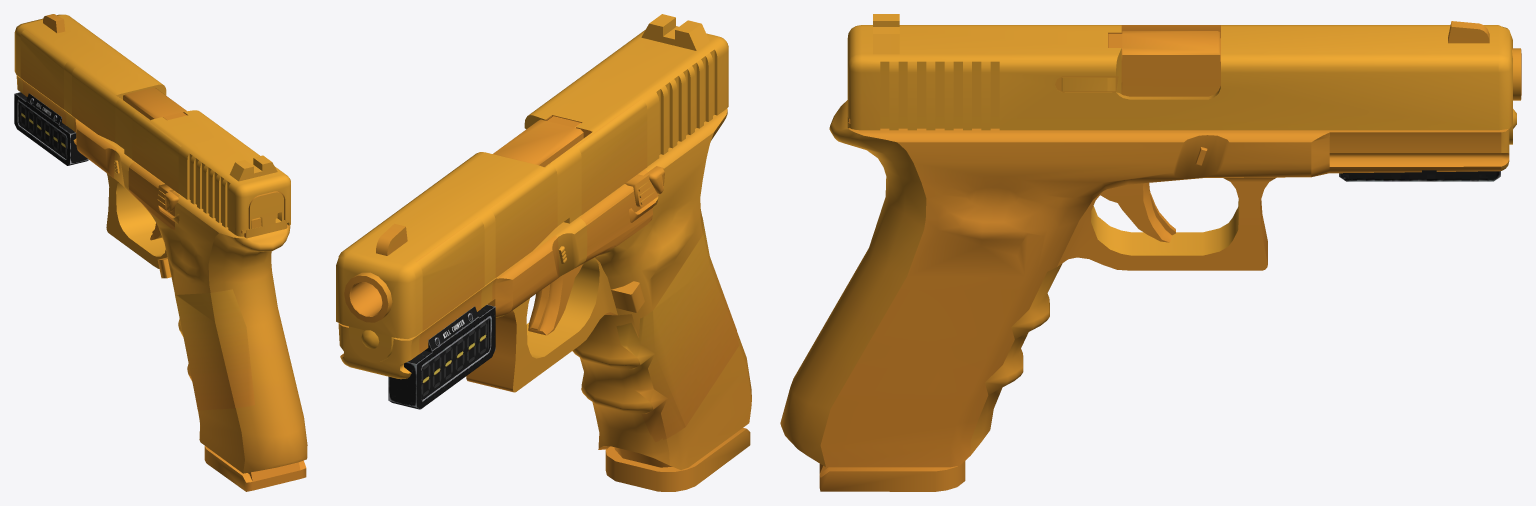
The picture shows the model from 3 angles, left to right: view 1: azimuth 30°, elevation 25°; view 2: azimuth 150°, elevation 25°; view 3: azimuth 270°, elevation 25°; orthographic projection. The views are drawn at different scales.
Parts seen in each view (by area): view 1: LOD_Template, Gunlock1, Sticker4, Sticker3, Sticker2, Sticker1, StatTrack.001, Magazine1; view 2: LOD_Template, Gunlock1, Sticker4, Sticker3, Sticker2, StatTrack.001, Sticker1, Magazine1; view 3: LOD_Template, Gunlock1, Magazine1, StatTrack.001.
Boxes of the visible parts, x1=… form: LOD_Template: x1=16, y1=75, x2=307, y2=473; Gunlock1: x1=14, y1=14, x2=290, y2=236; Sticker4: x1=175, y1=289, x2=254, y2=410; Sticker3: x1=128, y1=111, x2=182, y2=230; Sticker2: x1=72, y1=67, x2=119, y2=178; Sticker1: x1=20, y1=29, x2=68, y2=125; StatTrack.001: x1=14, y1=92, x2=88, y2=165; Magazine1: x1=204, y1=446, x2=306, y2=491; LOD_Template: x1=338, y1=108, x2=751, y2=469; Gunlock1: x1=336, y1=14, x2=728, y2=362; Sticker4: x1=616, y1=217, x2=739, y2=442; Sticker3: x1=576, y1=99, x2=663, y2=264; Sticker2: x1=487, y1=164, x2=559, y2=317; StatTrack.001: x1=388, y1=304, x2=495, y2=409; Sticker1: x1=416, y1=217, x2=484, y2=353; Magazine1: x1=605, y1=428, x2=750, y2=491; LOD_Template: x1=780, y1=31, x2=1521, y2=467; Gunlock1: x1=847, y1=14, x2=1512, y2=144; Magazine1: x1=819, y1=461, x2=965, y2=491; StatTrack.001: x1=1339, y1=170, x2=1500, y2=181.
Bounding box in the file's own units: 0.0732 × 0.2921 × 0.4398.
6 materials, 6 textured.
